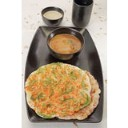dosa: (25, 65, 101, 121)
